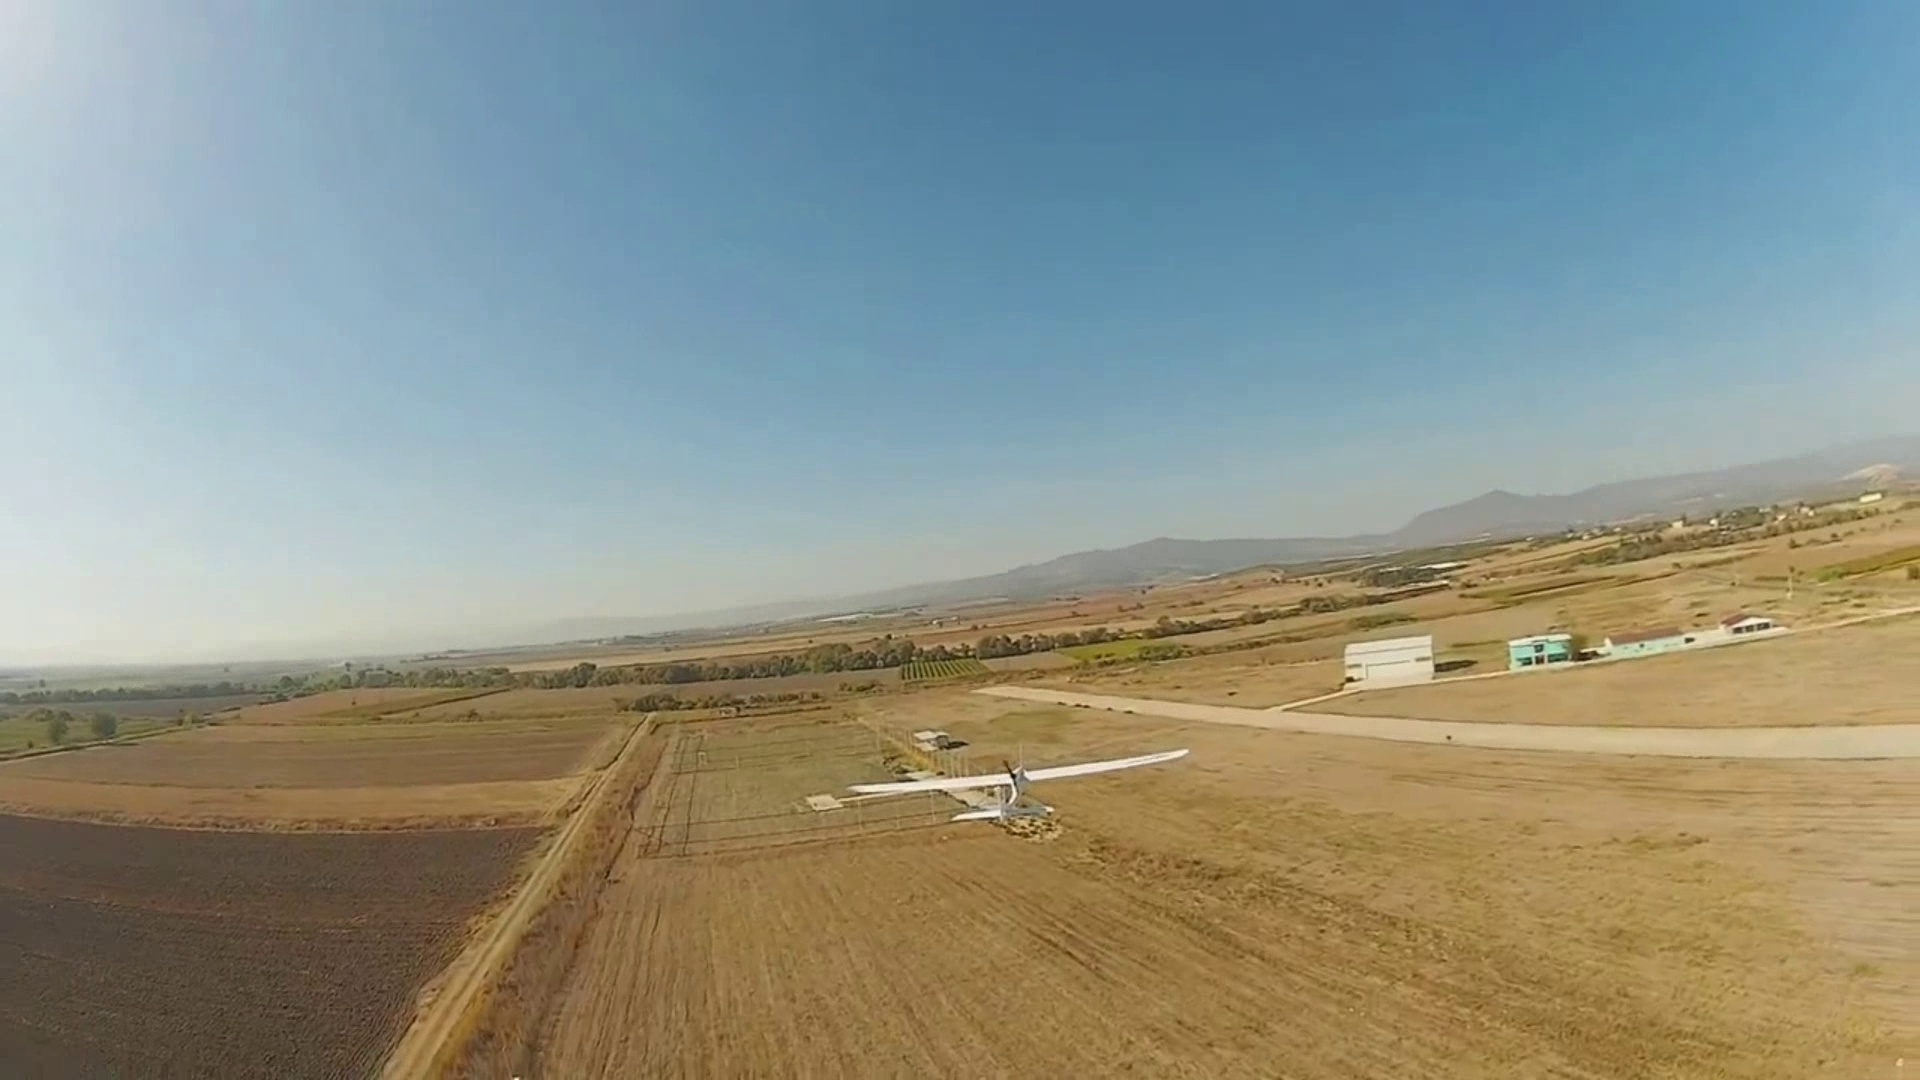airplane: (805, 744, 1196, 830)
